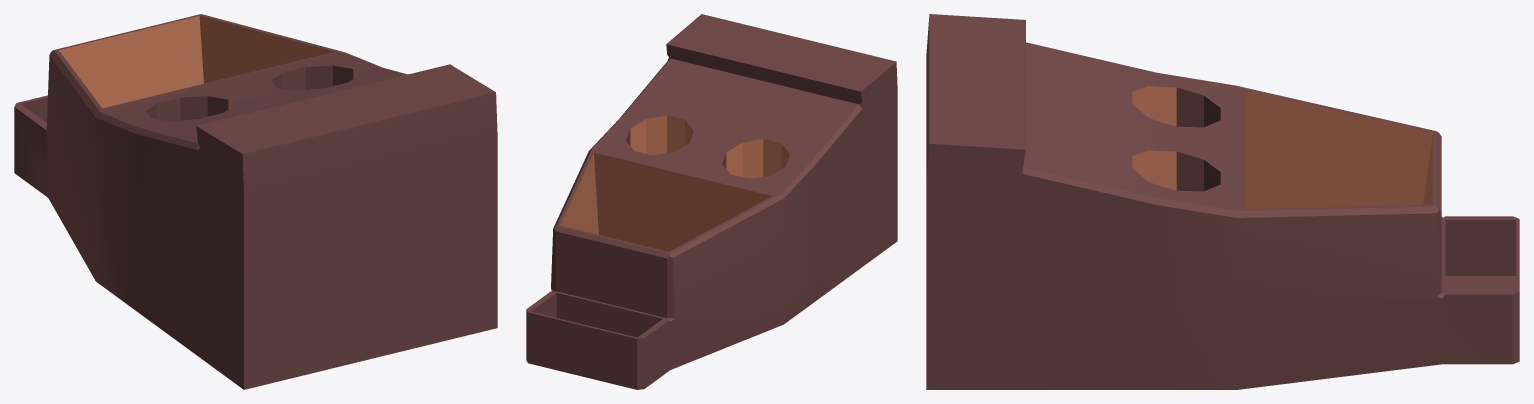
Rendered from Truck_Organizer.fbx.
3 views of the same model, side by side, from view 1: azimuth 30°, elevation 25°; view 2: azimuth 150°, elevation 25°; view 3: azimuth 270°, elevation 25° (orthographic). The views are drawn at different scales.
Parts seen in each view (by area): view 1: Truck_Organizer; view 2: Truck_Organizer; view 3: Truck_Organizer.
Boxes of the visible parts, x1,y1,x2,y2 form: Truck_Organizer: [14, 14, 497, 389]; Truck_Organizer: [526, 14, 897, 389]; Truck_Organizer: [926, 14, 1519, 389].
Size of the model in its own units: 67.17 by 57.33 by 125.
